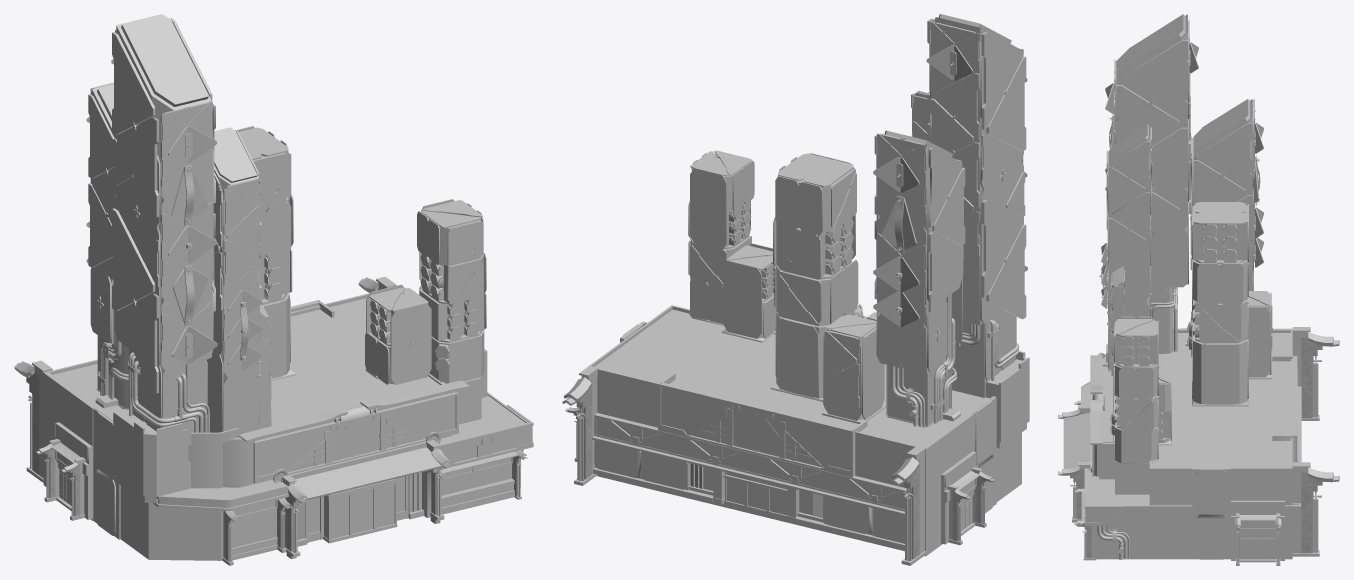
File: SM_Cit_Bui_06.fbx
The picture shows the model from 3 angles, left to right: view 1: azimuth 30°, elevation 25°; view 2: azimuth 150°, elevation 25°; view 3: azimuth 270°, elevation 25°; orthographic projection. The views are drawn at different scales.
Visible parts, largest first — view 1: SM_Cit_Bui_06AL.mo, SM_Cit_Bui_06BL.mo; view 2: SM_Cit_Bui_06AL.mo, SM_Cit_Bui_06BL.mo; view 3: SM_Cit_Bui_06BL.mo, SM_Cit_Bui_06AL.mo.
Boxes of the visible parts, x1=… form: SM_Cit_Bui_06AL.mo: x1=14, y1=68, x2=533, y2=565; SM_Cit_Bui_06BL.mo: x1=53, y1=14, x2=525, y2=547; SM_Cit_Bui_06AL.mo: x1=562, y1=22, x2=1029, y2=565; SM_Cit_Bui_06BL.mo: x1=594, y1=14, x2=1027, y2=535; SM_Cit_Bui_06BL.mo: x1=1082, y1=14, x2=1300, y2=559; SM_Cit_Bui_06AL.mo: x1=1058, y1=21, x2=1339, y2=565.
Size of the model in its own units: 40.28 by 47.62 by 29.44.
